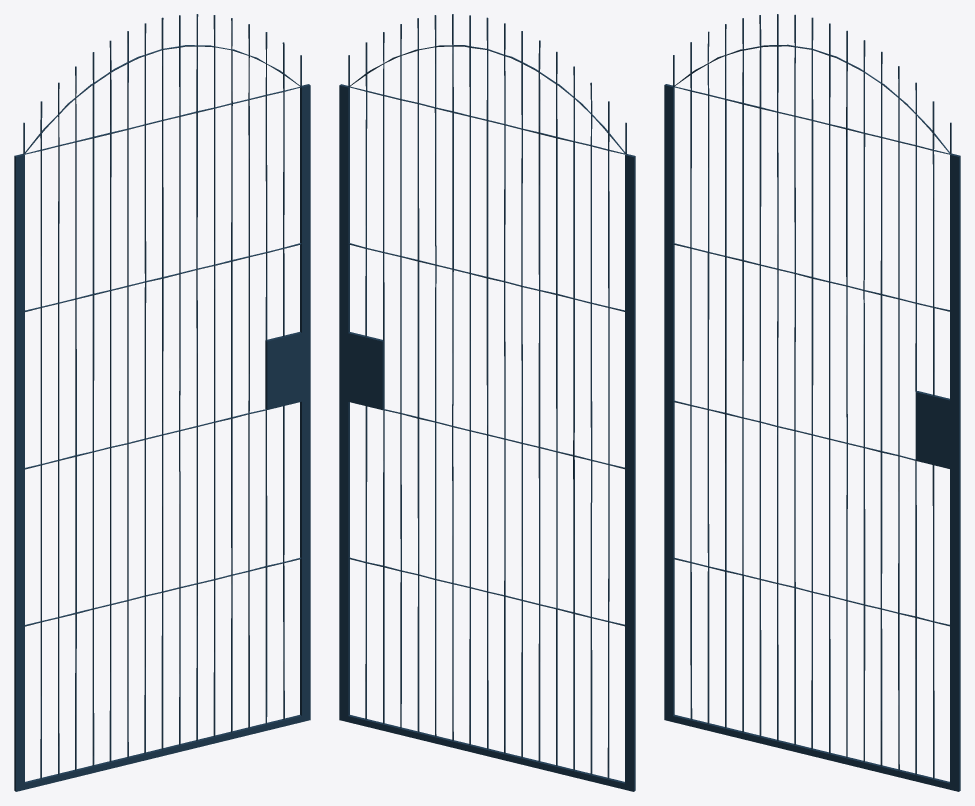
Rendered from gate_iron.glb.
The picture shows the model from 3 angles, left to right: view 1: azimuth 30°, elevation 25°; view 2: azimuth 150°, elevation 25°; view 3: azimuth 330°, elevation 25°; orthographic projection.
Size of the model in its own units: 98.06 by 235 by 1.
